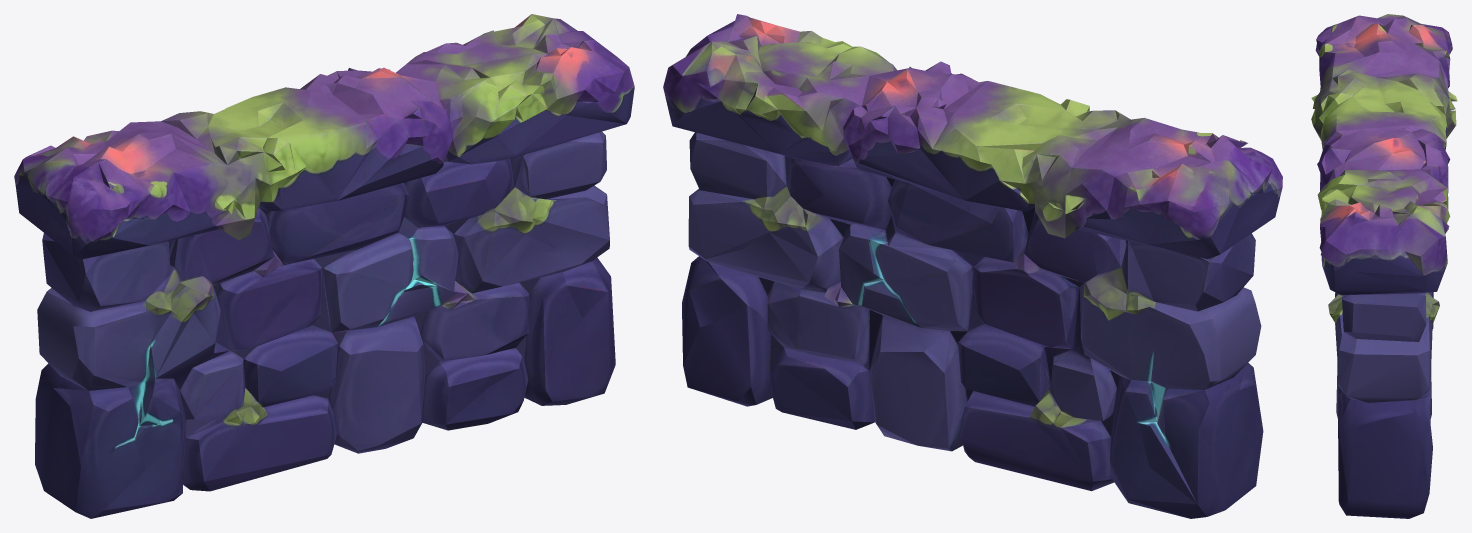
Rendered from arena_wall.glb.
3 views of the same model, side by side, from view 1: azimuth 30°, elevation 25°; view 2: azimuth 150°, elevation 25°; view 3: azimuth 270°, elevation 25° (orthographic). The views are drawn at different scales.
Bounding box in the file's own units: 1.9 × 1.14 × 0.5029.
Materials: 1 (1 with a texture image).
